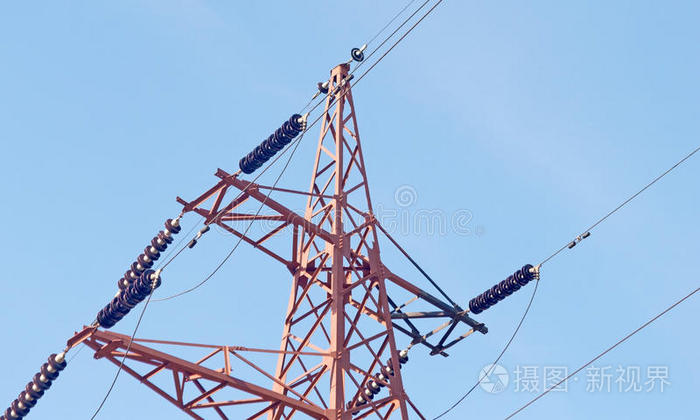insulator: (236, 114, 308, 175), (1, 352, 66, 419), (118, 216, 179, 287), (349, 351, 411, 409), (96, 272, 159, 328), (469, 262, 538, 313)
